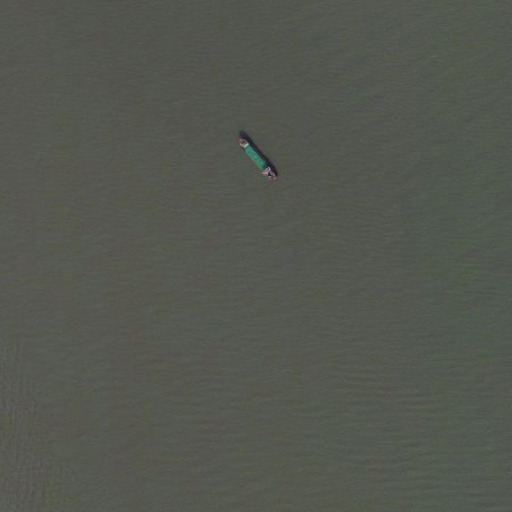ship: (233, 129, 282, 185)
